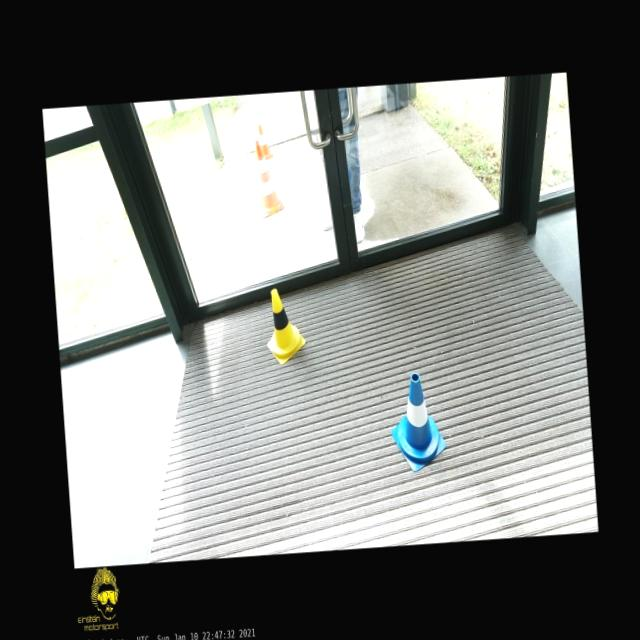blue_cone: (388, 370, 448, 472)
large_orange_cone: (252, 138, 284, 218)
orange_cone: (256, 122, 274, 160)
yellow_cone: (262, 286, 306, 365)
